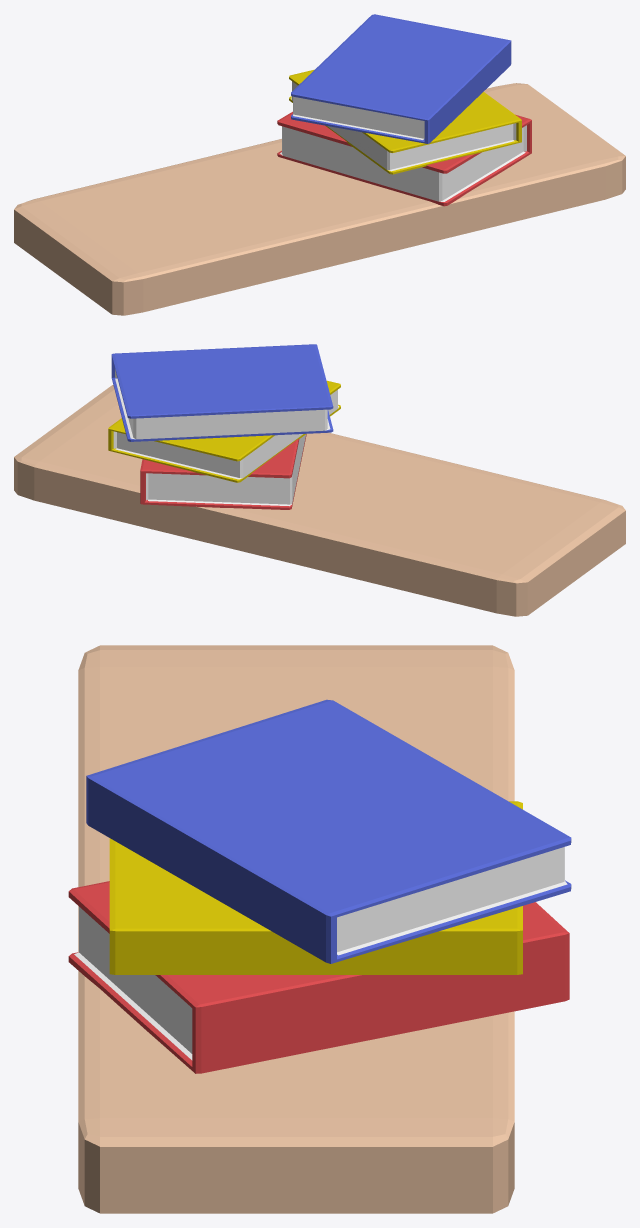
File: shelf.fbx
3 renders of one model, top to bottom at view 1: azimuth 30°, elevation 25°; view 2: azimuth 150°, elevation 25°; view 3: azimuth 270°, elevation 25°, orthographic. The views are drawn at different scales.
Parts seen in each view (by area): view 1: Wall shelf.001, Book stack 1.001; view 2: Wall shelf.001, Book stack 1.001; view 3: Book stack 1.001, Wall shelf.001.
Boxes of the visible parts, x1,y1,x2,y2 form: Wall shelf.001: [14, 83, 625, 315]; Book stack 1.001: [277, 14, 531, 206]; Wall shelf.001: [14, 385, 625, 616]; Book stack 1.001: [108, 344, 340, 509]; Book stack 1.001: [68, 699, 571, 1073]; Wall shelf.001: [78, 645, 514, 1213].
Size of the model in its own units: 229 by 52.67 by 97.01.
